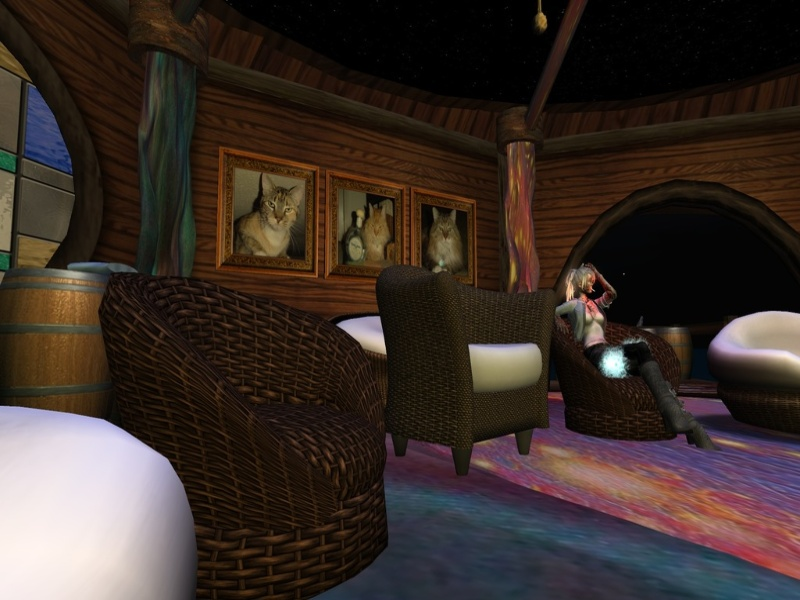cat: (232, 165, 301, 259), (426, 203, 469, 275), (356, 197, 392, 266)
chair: (99, 265, 391, 593), (384, 260, 555, 463)
